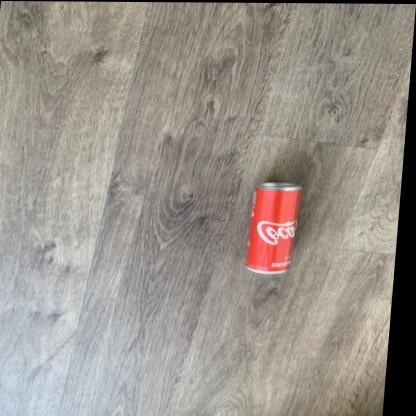trash: (246, 182, 302, 273)
